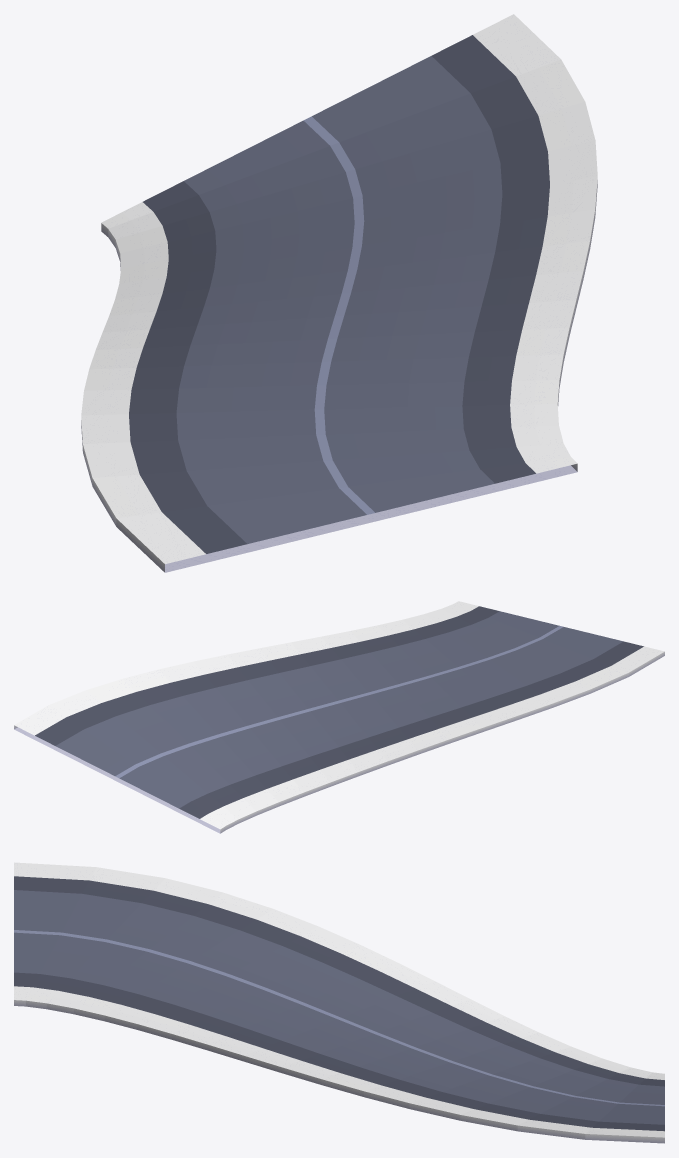
The model's file is road-Chicane-Flat-HalfBankedLeft-Down1-Right1-Size2.glb.
3 renders of one model, top to bottom at view 1: azimuth 30°, elevation 25°; view 2: azimuth 150°, elevation 25°; view 3: azimuth 270°, elevation 25°, orthographic. The views are drawn at different scales.
Visible parts, largest first — view 1: road-Chicane-Flat-HalfBankedLeft-Down1-Right1-Size2; view 2: road-Chicane-Flat-HalfBankedLeft-Down1-Right1-Size2; view 3: road-Chicane-Flat-HalfBankedLeft-Down1-Right1-Size2.
Boxes of the visible parts, x1,y1,x2,y2 form: road-Chicane-Flat-HalfBankedLeft-Down1-Right1-Size2: (81, 14, 597, 572); road-Chicane-Flat-HalfBankedLeft-Down1-Right1-Size2: (14, 601, 664, 833); road-Chicane-Flat-HalfBankedLeft-Down1-Right1-Size2: (14, 862, 664, 1143).
Size of the model in its own units: 2 by 0.27 by 2.
Materials: 1 (1 with a texture image).
